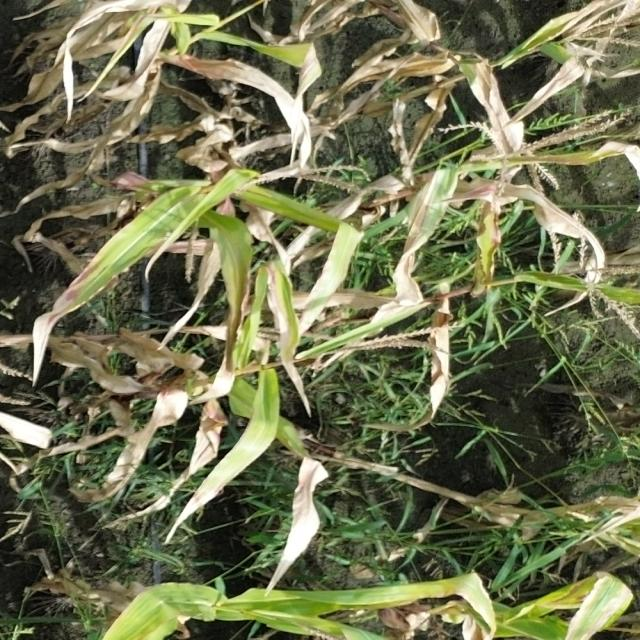northern-leaf-blight: (28, 223, 158, 334), (186, 218, 259, 375), (258, 270, 330, 418), (375, 153, 473, 255), (541, 561, 640, 640), (366, 569, 491, 630)
